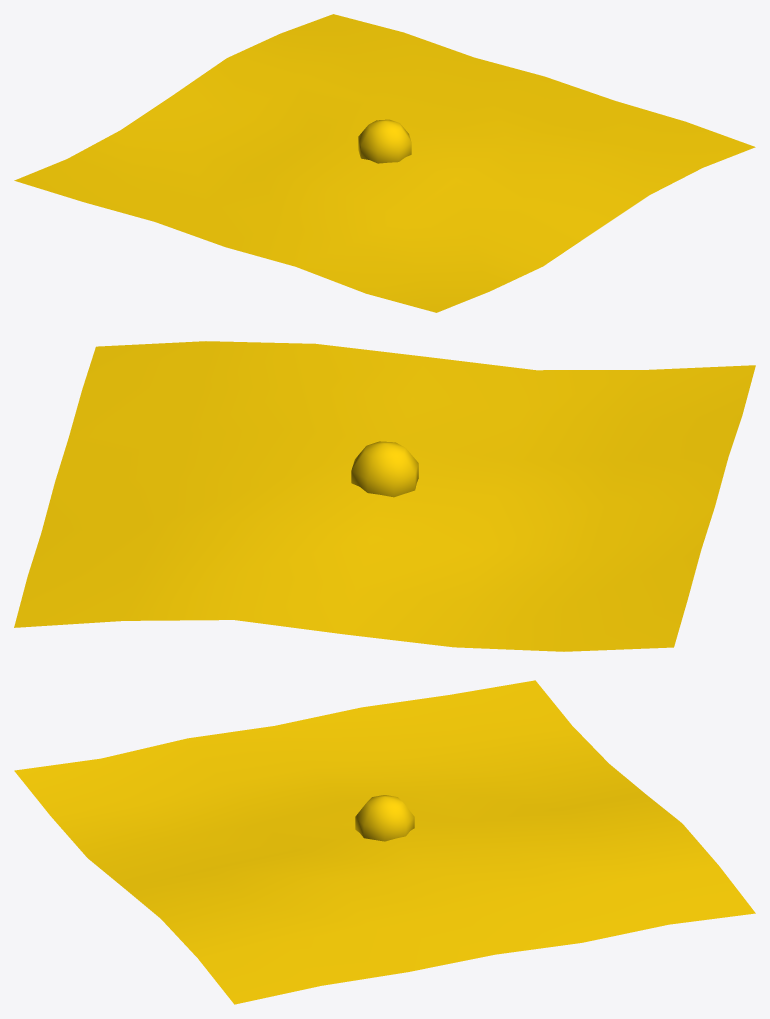
Rendered from penalty_flag.glb.
3 renders of one model, top to bottom at view 1: azimuth 30°, elevation 25°; view 2: azimuth 150°, elevation 25°; view 3: azimuth 270°, elevation 25°, orthographic. The views are drawn at different scales.
Parts seen in each view (by area): view 1: penalty_flag__prop_yellow; view 2: penalty_flag__prop_yellow; view 3: penalty_flag__prop_yellow.
Part boxes in pixels (x1,y1,x2,y2): penalty_flag__prop_yellow: (14,14,755,312); penalty_flag__prop_yellow: (14,341,755,651); penalty_flag__prop_yellow: (14,680,755,1004).
Bounding box in the file's own units: 0.5242 × 0.044 × 0.5242.
